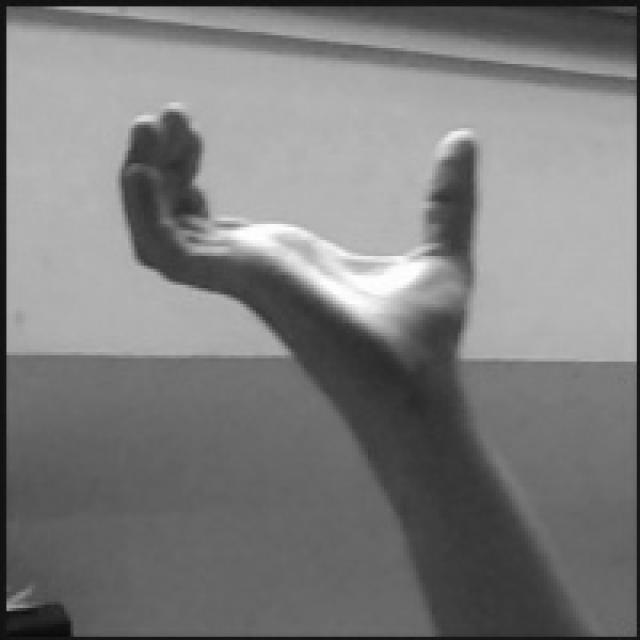space: (111, 104, 478, 358)
